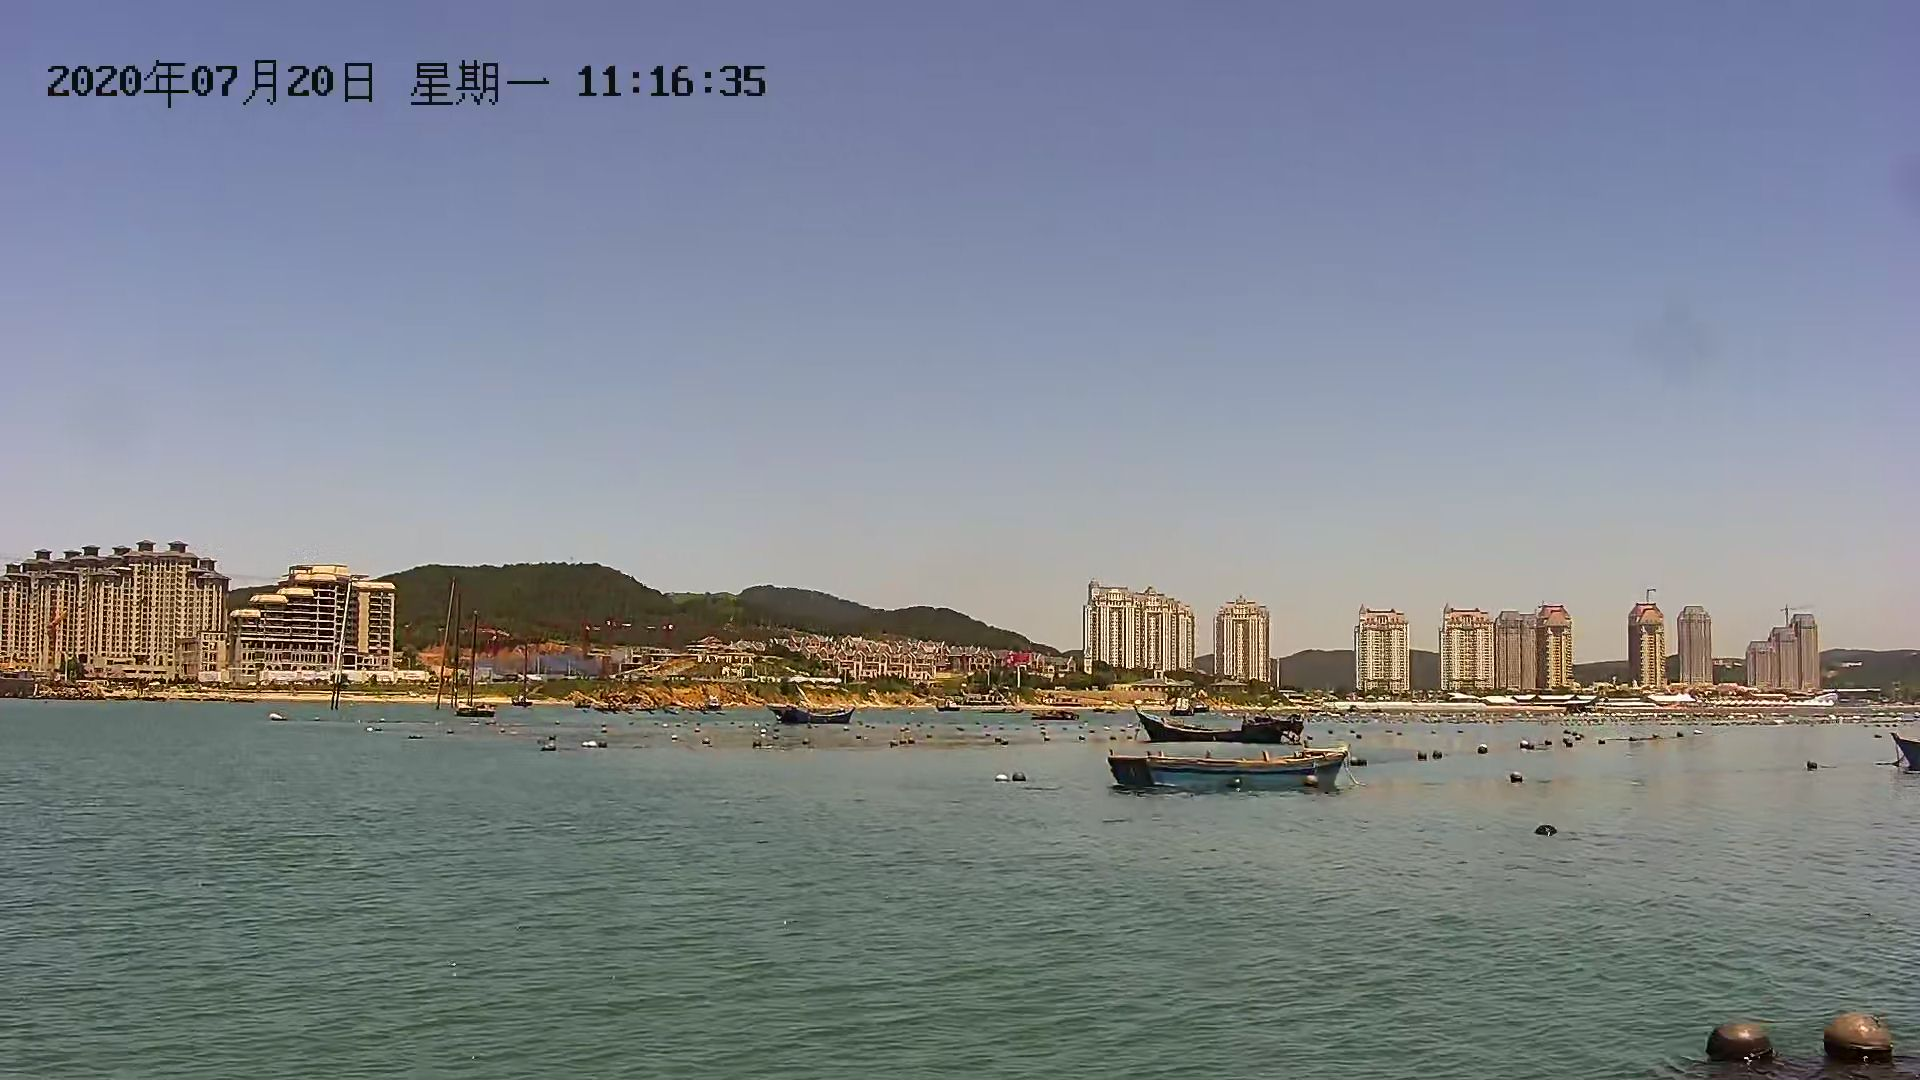ball: (1803, 1001, 1909, 1069), (1689, 1011, 1795, 1080), (1505, 771, 1530, 791), (1530, 824, 1563, 839)
boat: (1096, 738, 1367, 794), (1126, 712, 1313, 738), (758, 696, 868, 727)
